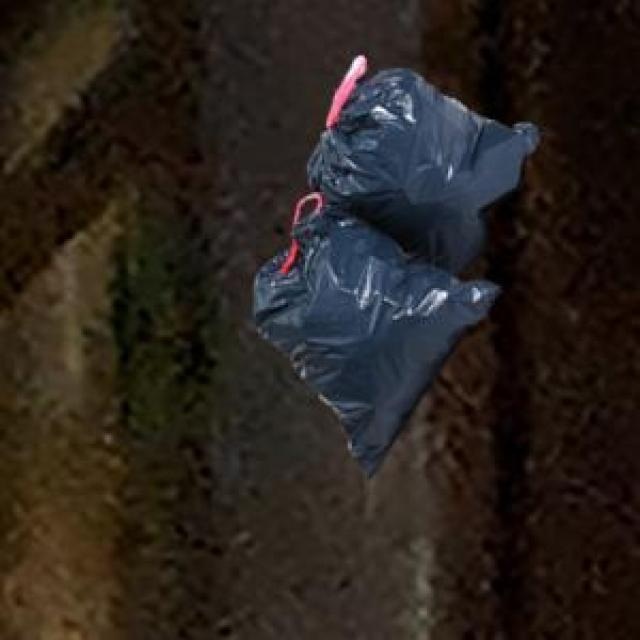Vinyl: (254, 56, 539, 473)
